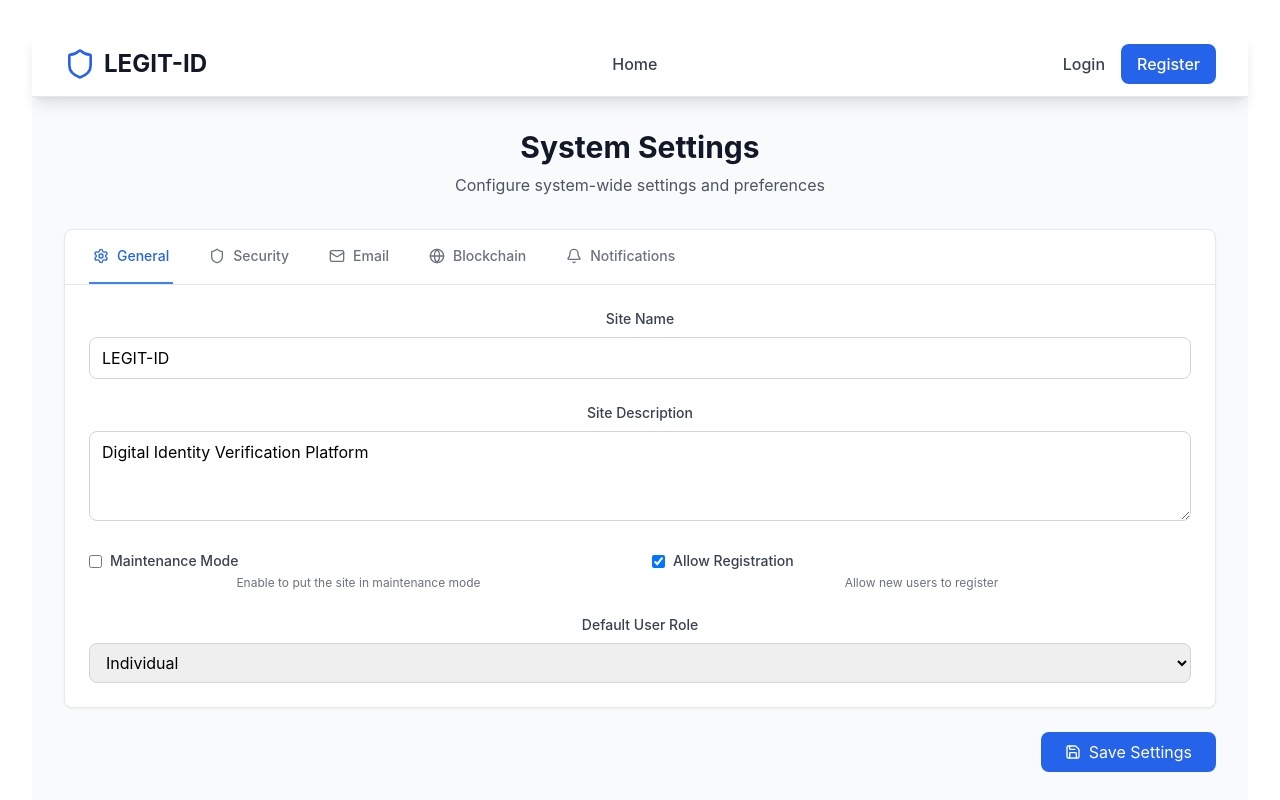
Scenario: AdminSystemSettingsPage › renders email settings when email tab is clicked
Click the button "Email": [359, 257] box [325, 230, 393, 284]
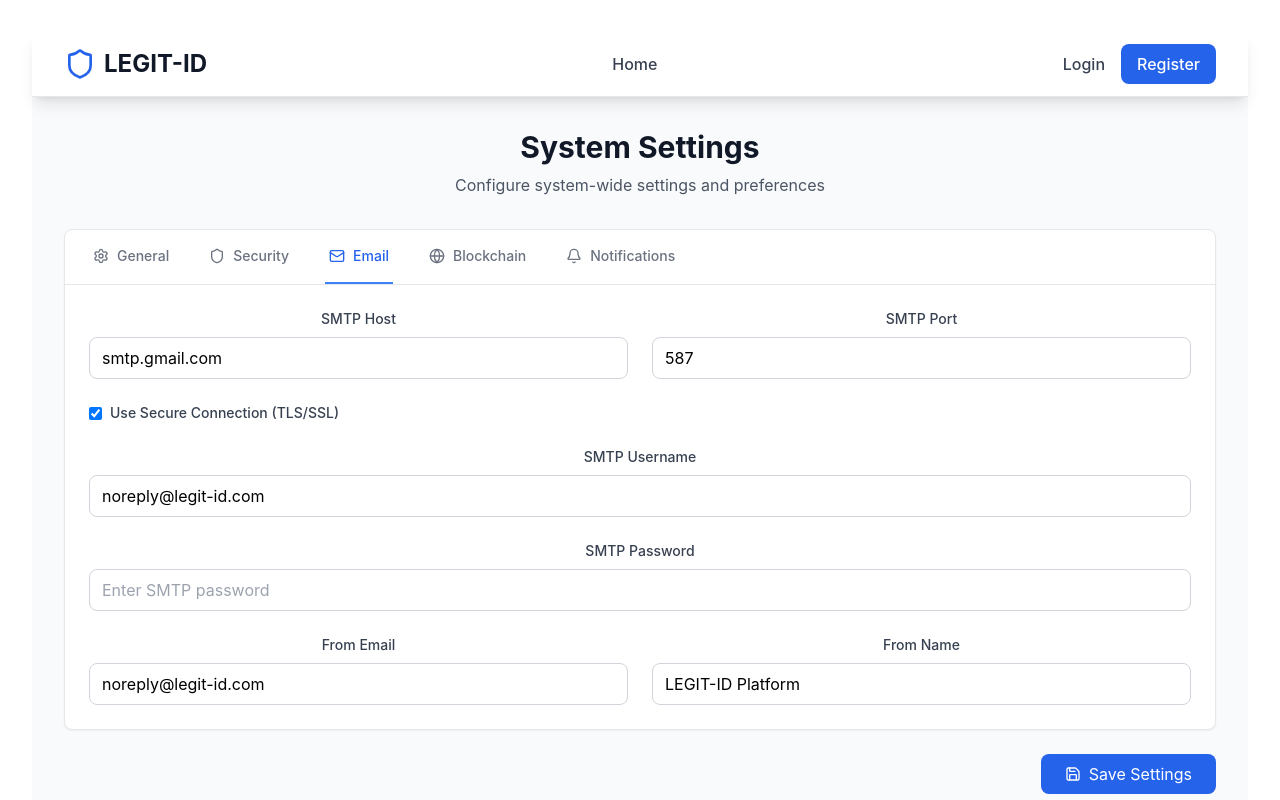
Check: the text "SMTP Host" is shown, box [321, 310, 396, 327]
Check: the text "SMTP Port" is shown, box [886, 310, 957, 327]
Check: the text "Use Secure Connection (TLS/SSL)" is shown, box [110, 403, 339, 423]
